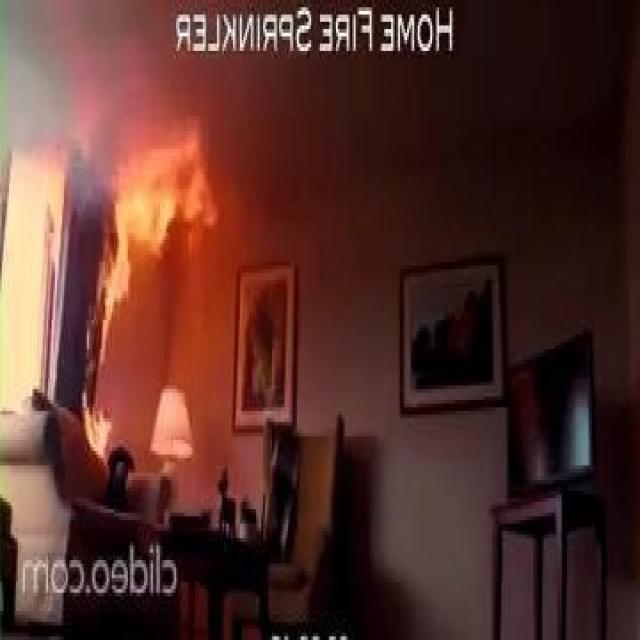fire: (57, 89, 222, 475)
